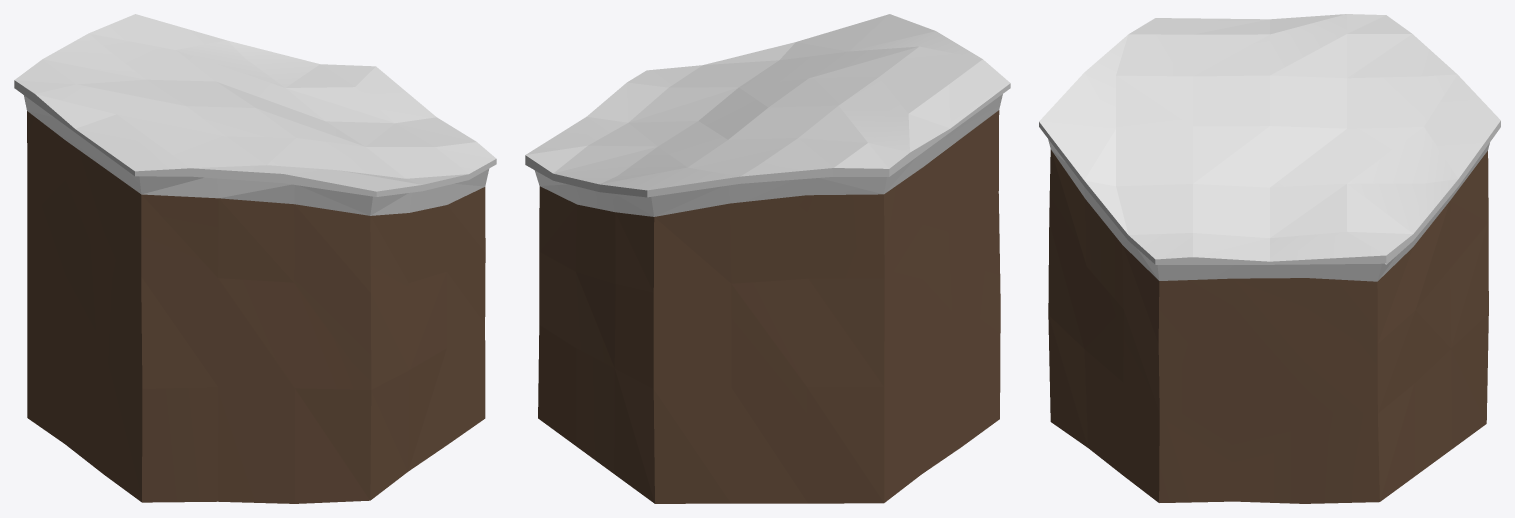
File: tileShore.fbx
3 views of the same model, side by side, from view 1: azimuth 30°, elevation 25°; view 2: azimuth 150°, elevation 25°; view 3: azimuth 270°, elevation 25° (orthographic). The views are drawn at different scales.
Visible parts, largest first — view 1: hexagonTile-land02; view 2: hexagonTile-land02; view 3: hexagonTile-land02.
Part boxes in pixels (x1,y1,x2,y2): hexagonTile-land02: [14, 14, 496, 503]; hexagonTile-land02: [525, 14, 1010, 503]; hexagonTile-land02: [1039, 14, 1500, 503].
Bounding box in the file's own units: 1498 × 1344 × 1729.
